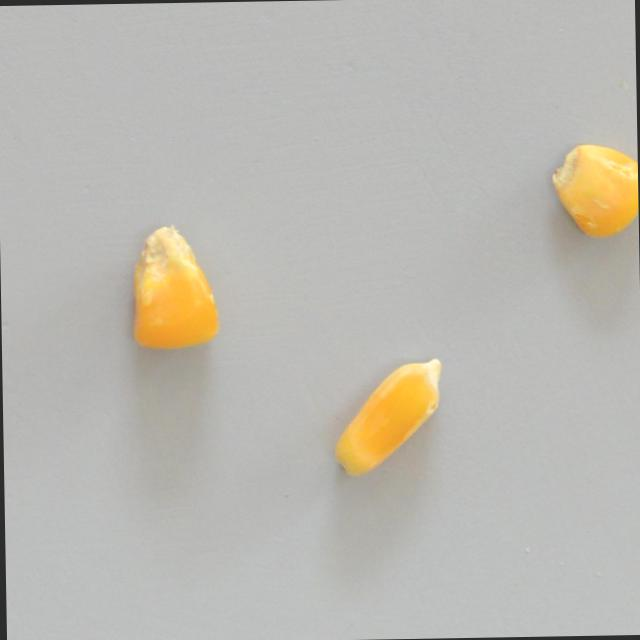entero: (331, 353, 447, 484), (128, 221, 222, 351)
pelicula: (546, 140, 639, 239)
